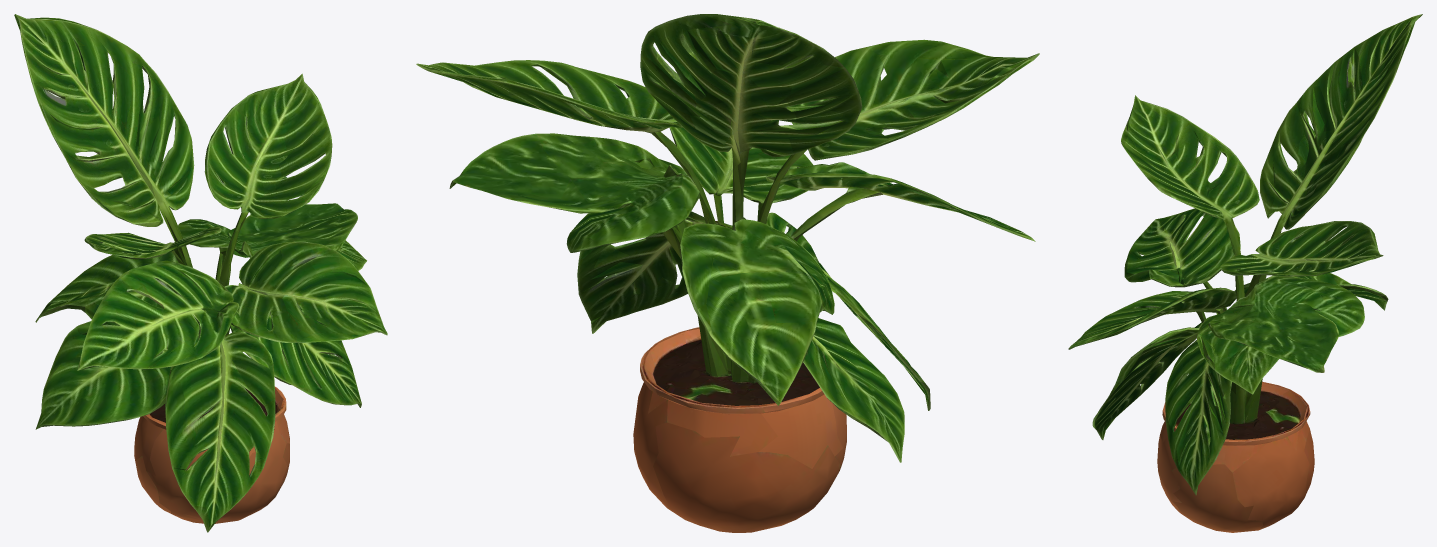
The model's file is tanaman.glb.
3 renders of one model, left to right at view 1: azimuth 30°, elevation 25°; view 2: azimuth 150°, elevation 25°; view 3: azimuth 270°, elevation 25°, orthographic. The views are drawn at different scales.
Bounding box in the file's own units: 1.53 × 1.9 × 1.36.
1 material, 1 textured.
